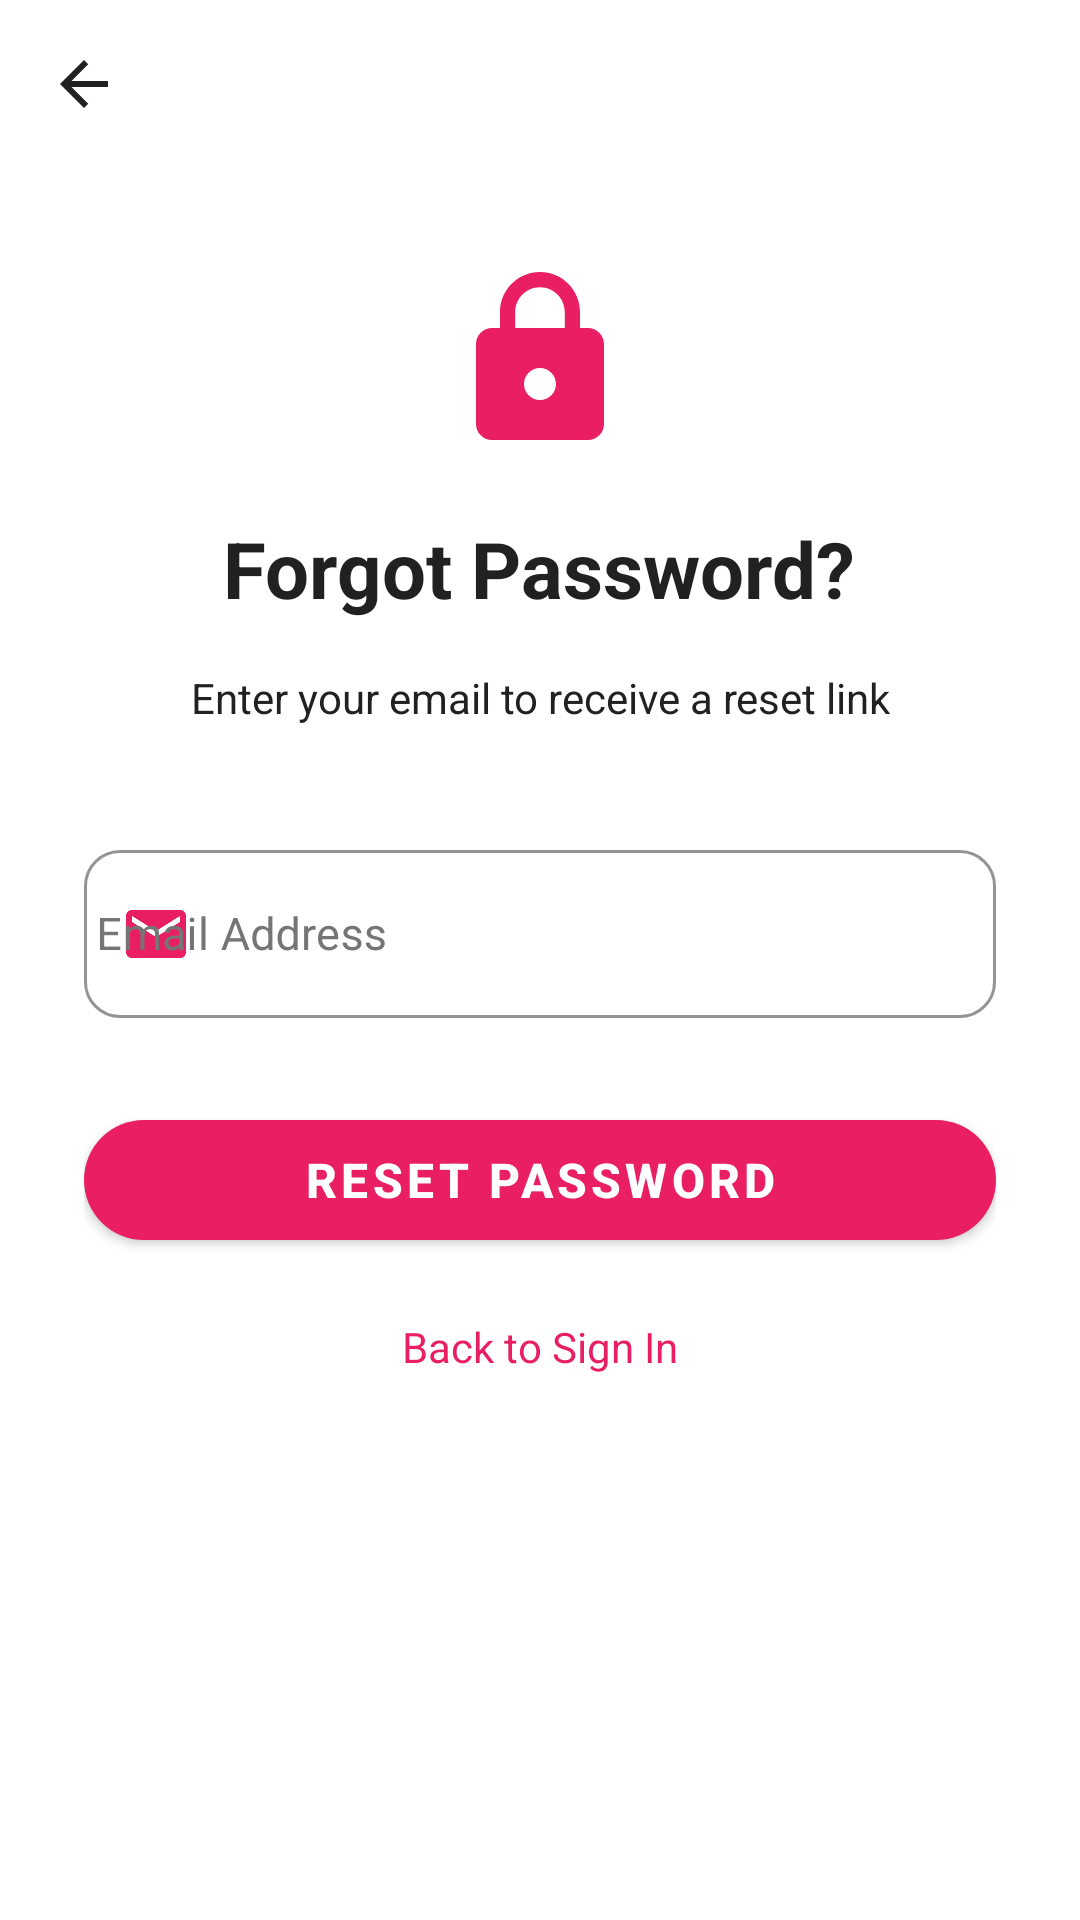

Point at icon controls on the screen. Image size 1080*1920, points as (x,y).
Lock: (540,356)
